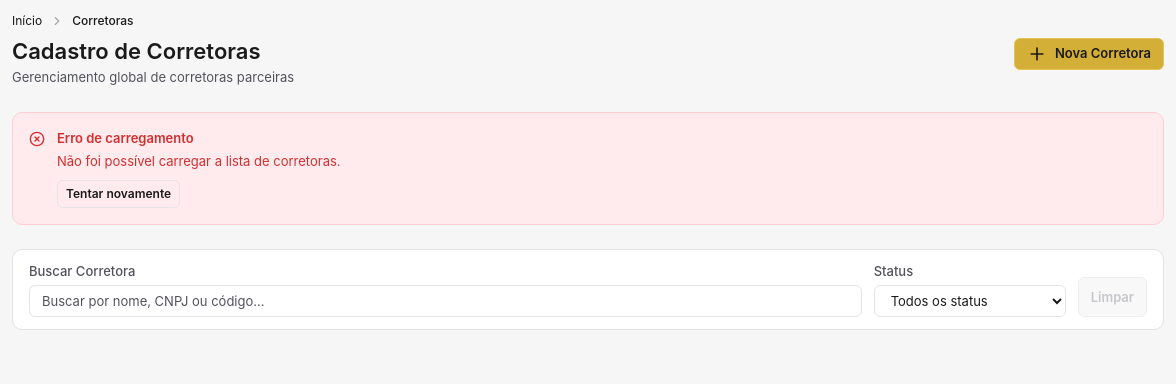
Test case: Consultas de corretoras › carrega, apresenta falha e recupera no tema claro / light
Expected: the message is shown, top-left (12, 112), bottom-right (1164, 225)
Click the button "Tentar novamente" at (119, 194), box top-left (57, 180), bottom-right (180, 208)
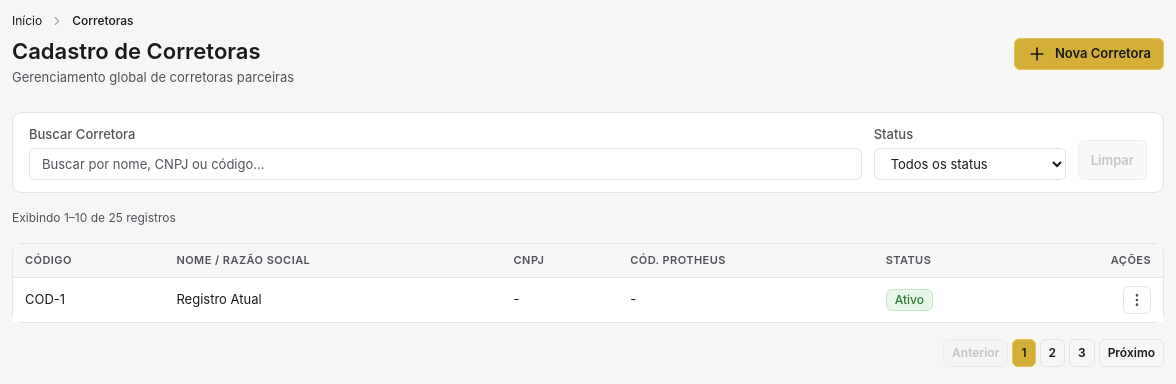
Expected: the text "Registro Atual" is shown, top-left (164, 277), bottom-right (502, 322)
